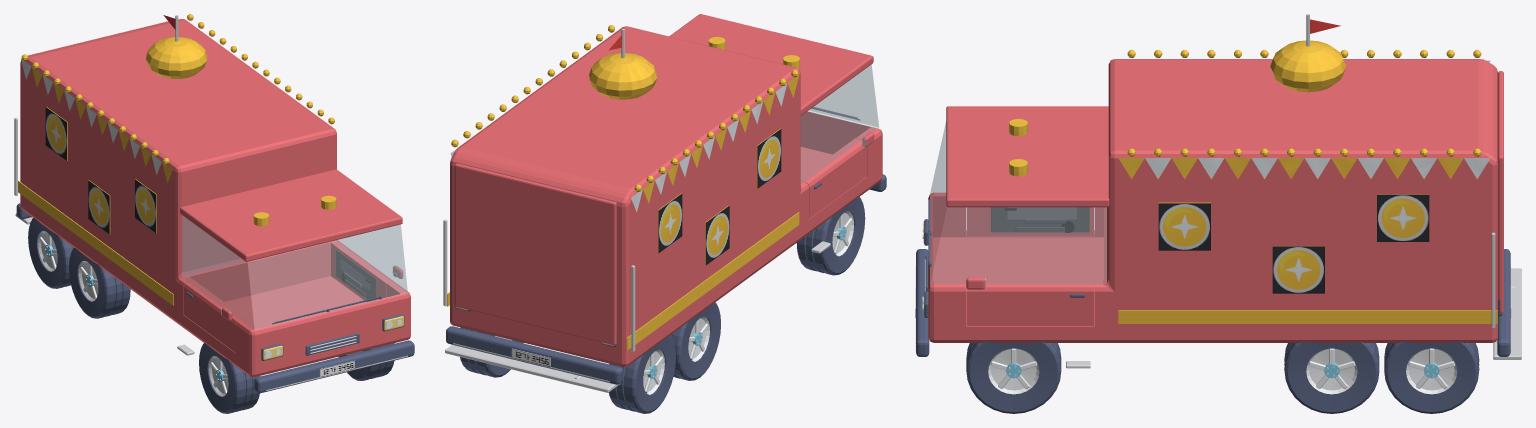
File: B02_circus_trailer_v2.glb
3 views of the same model, side by side, from view 1: azimuth 30°, elevation 25°; view 2: azimuth 150°, elevation 25°; view 3: azimuth 270°, elevation 25° (orthographic). The views are drawn at different scales.
Visible parts, largest first — view 1: Body, Glass, CircusDetails, Wheel_RR, Wheel_FR, Bumper_Front, Door_R, Wheel_RR2, DoorDetail_L, Door_L, Wheel_FL, Grille; view 2: Body, Trunk, CircusDetails, Glass, Wheel_FR, Wheel_RR2, Bumper_Rear, Door_R, Wheel_RR, Wheel_RL2; view 3: Body, CircusDetails, Glass, Wheel_FL, Wheel_RL, Wheel_RL2, Door_L, DoorDetail_R, Trunk, Door_R, Bumper_Front, Bumper_Rear.
Part boxes in pixels (x1,y1,x2,y2): Body: (20,19,410,377); Glass: (182,216,407,329); CircusDetails: (14,14,336,355); Wheel_RR: (69,248,130,318); Wheel_FR: (199,343,260,413); Bumper_Front: (254,340,414,393); Door_R: (183,280,245,352); Wheel_RR2: (28,218,73,288); DoorDetail_L: (336,250,376,301); Door_L: (334,244,394,301); Wheel_FL: (339,343,394,380); Grille: (305,333,359,355); Body: (450,14,882,366); Trunk: (454,163,616,345); CircusDetails: (443,25,830,392); Glass: (801,64,878,184); Wheel_FR: (796,197,865,275); Wheel_RR2: (608,335,675,413); Bumper_Rear: (446,326,623,384); Door_R: (800,138,866,218); Wheel_RR: (670,302,720,380); Wheel_RL2: (460,327,523,377); Body: (928,59,1497,342); CircusDetails: (1009,14,1521,368); Glass: (930,121,1106,283); Wheel_FL: (966,341,1061,413); Wheel_RL: (1284,341,1379,413); Wheel_RL2: (1384,341,1479,413); Door_L: (967,280,1093,325); DoorDetail_R: (991,207,1089,232); Trunk: (1498,71,1503,313); Door_R: (967,207,1093,235); Bumper_Front: (915,249,929,356); Bumper_Rear: (1497,249,1510,356).
Bounding box in the file's own units: 2.64 × 4.1 × 6.39.
Materials: 12 (1 with a texture image).
